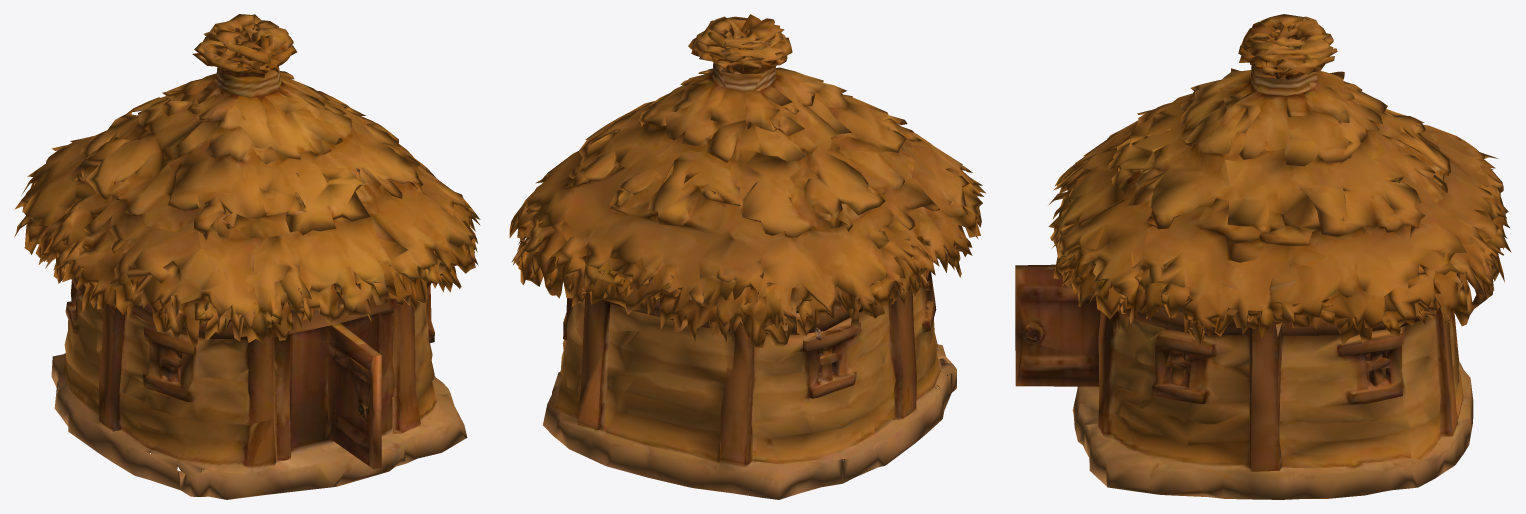
The model's file is thatched-hut.glb.
3 renders of one model, left to right at view 1: azimuth 30°, elevation 25°; view 2: azimuth 150°, elevation 25°; view 3: azimuth 270°, elevation 25°, orthographic. The views are drawn at different scales.
Parts seen in each view (by area): view 1: 1_output_1793793255659824_MWJepePSt; view 2: 1_output_1793793255659824_MWJepePSt; view 3: 1_output_1793793255659824_MWJepePSt.
Part boxes in pixels (x1,y1,x2,y2): 1_output_1793793255659824_MWJepePSt: (14,14,480,499); 1_output_1793793255659824_MWJepePSt: (509,14,985,499); 1_output_1793793255659824_MWJepePSt: (1015,14,1511,499).
Size of the model in its own units: 1.84 by 1.74 by 1.99.
Materials: 1 (1 with a texture image).
